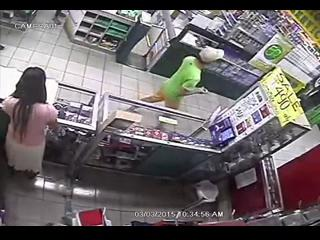Normal: (0, 66, 60, 178)
